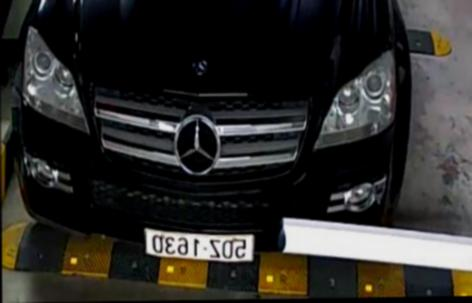License_Plate: (133, 220, 257, 263)
